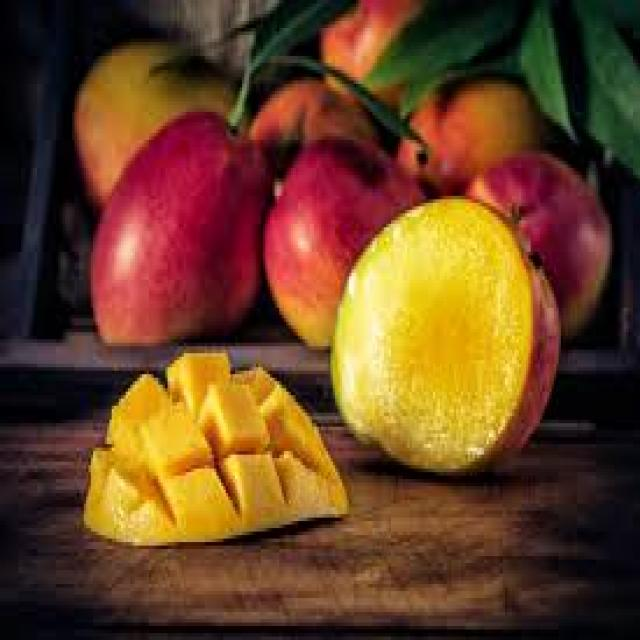organic waste: (328, 188, 559, 476), (81, 346, 347, 546), (86, 105, 270, 346), (261, 133, 426, 346), (70, 35, 247, 213), (461, 143, 610, 343), (393, 70, 542, 199), (314, 0, 466, 119), (225, 0, 370, 122), (551, 0, 637, 171), (361, 0, 524, 84), (398, 35, 526, 119), (244, 66, 375, 147), (516, 0, 574, 136)
